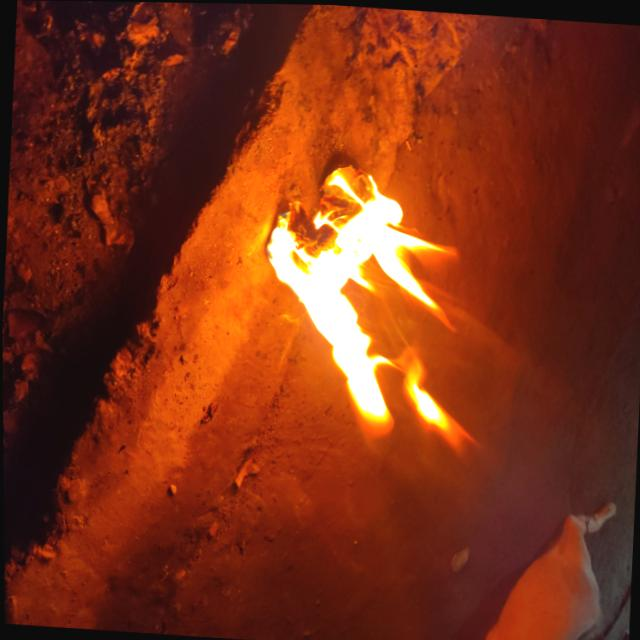Fire: (253, 157, 492, 459)
